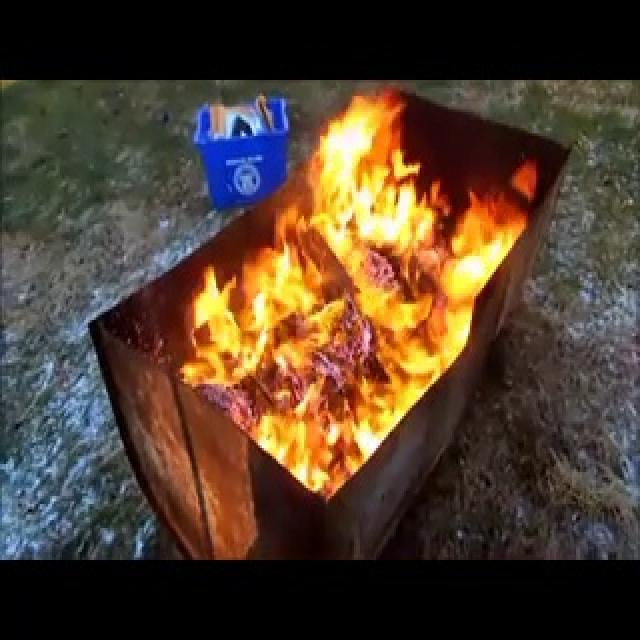fire: (194, 83, 536, 506)
